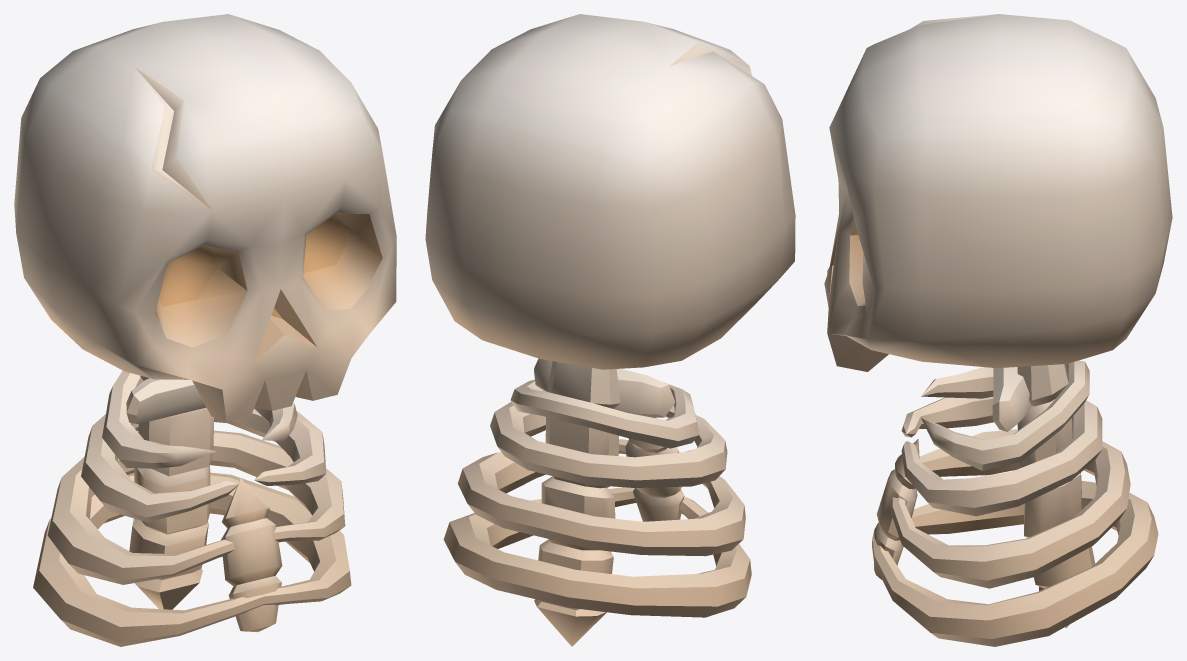
Rendered from GhostPlayer.glb.
3 renders of one model, left to right at view 1: azimuth 30°, elevation 25°; view 2: azimuth 150°, elevation 25°; view 3: azimuth 270°, elevation 25°, orthographic. The views are drawn at different scales.
Parts seen in each view (by area): view 1: skull; view 2: skull; view 3: skull.
Boxes of the visible parts, x1,y1,x2,y2 form: skull: (14,14,396,646); skull: (425,14,795,646); skull: (824,14,1172,646).
Bounding box in the file's own units: 0.7793 × 1.45 × 0.7705.
Materials: 1 (1 with a texture image).
